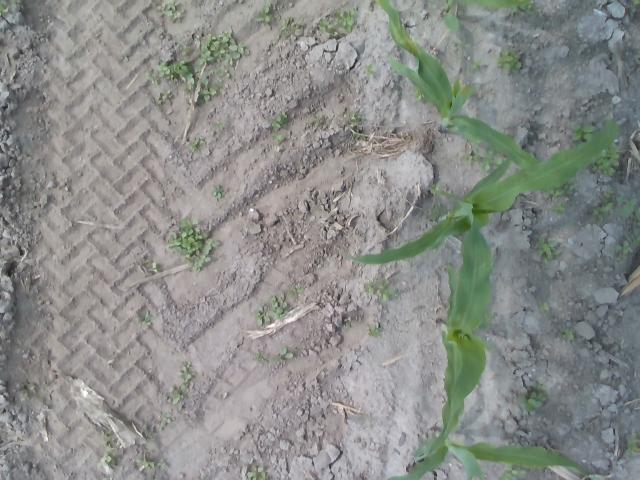Maize: (336, 122, 620, 264), (374, 0, 543, 171), (428, 190, 497, 463), (386, 428, 606, 480), (440, 0, 533, 34)
Weeds: (166, 218, 220, 272), (196, 29, 245, 64), (182, 76, 221, 106), (516, 378, 547, 414), (156, 58, 196, 84), (592, 146, 620, 176), (363, 278, 395, 303), (536, 237, 562, 265), (546, 176, 576, 198), (333, 10, 358, 36), (157, 0, 186, 22), (496, 48, 520, 72), (269, 294, 291, 320), (480, 146, 502, 172), (280, 18, 304, 40), (498, 462, 527, 480), (616, 196, 637, 219), (342, 104, 362, 128), (590, 202, 612, 222), (570, 124, 594, 142), (268, 111, 288, 132), (252, 6, 274, 24), (508, 0, 534, 15), (178, 364, 192, 390), (460, 148, 480, 166), (614, 240, 632, 260), (246, 465, 268, 480), (253, 306, 270, 325), (102, 429, 116, 452), (626, 432, 640, 455), (96, 452, 116, 468), (272, 348, 294, 362), (154, 88, 172, 104), (168, 386, 184, 404), (478, 312, 494, 330), (317, 18, 334, 34), (428, 202, 443, 220), (186, 138, 205, 152), (145, 259, 162, 274), (134, 458, 155, 470), (459, 34, 473, 51), (288, 283, 306, 296), (367, 324, 383, 338), (468, 60, 486, 72), (252, 352, 269, 364), (138, 311, 156, 322), (631, 227, 640, 248), (213, 66, 230, 77), (559, 329, 576, 340), (16, 384, 36, 393), (364, 63, 376, 78), (551, 202, 566, 214), (414, 86, 425, 102), (428, 182, 442, 194), (537, 300, 551, 312), (602, 189, 614, 203), (144, 73, 159, 84), (212, 185, 224, 198), (271, 133, 285, 144), (0, 0, 9, 17), (160, 411, 172, 423), (144, 429, 154, 442), (194, 64, 203, 78), (633, 207, 640, 221), (156, 460, 168, 468), (213, 122, 226, 129), (182, 44, 190, 54), (342, 319, 350, 329), (10, 0, 22, 4)
